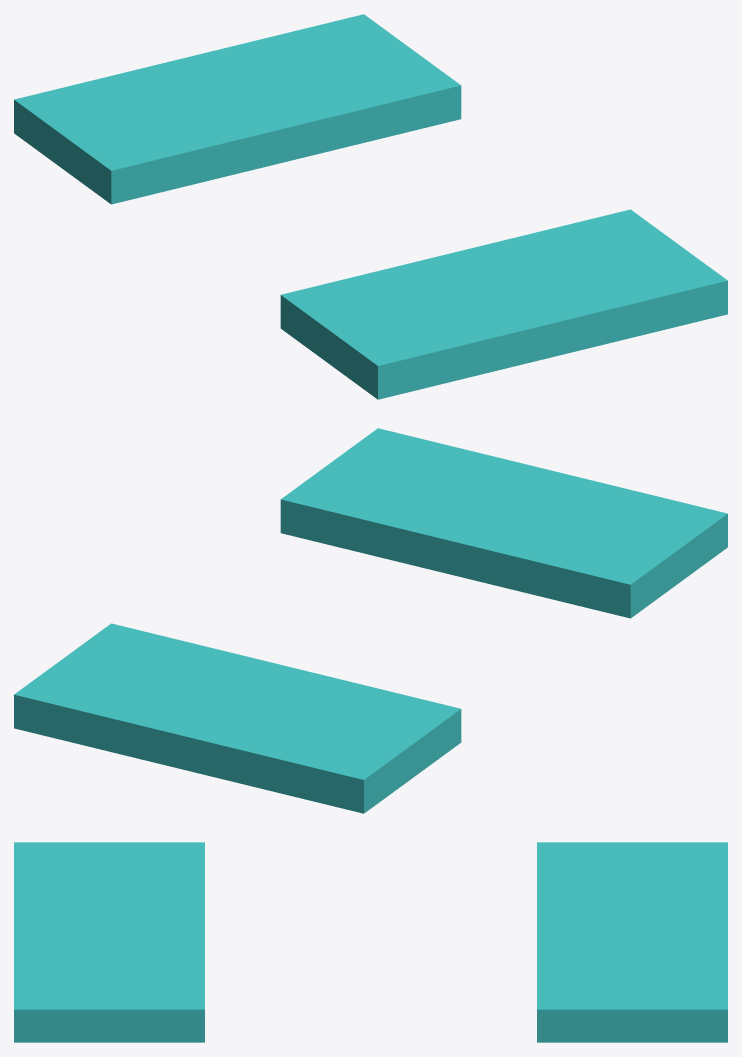
The model's file is Water.fbx.
The picture shows the model from 3 angles, top to bottom: view 1: azimuth 30°, elevation 25°; view 2: azimuth 150°, elevation 25°; view 3: azimuth 270°, elevation 25°; orthographic projection.
Parts seen in each view (by area): view 1: Tile_Center, pasted__Tile_Center; view 2: Tile_Center, pasted__Tile_Center; view 3: Tile_Center, pasted__Tile_Center.
Boxes of the visible parts, <box> form: Tile_Center: <box>14,14,461,204</box>; pasted__Tile_Center: <box>280,209,727,399</box>; Tile_Center: <box>14,623,461,813</box>; pasted__Tile_Center: <box>280,428,727,618</box>; Tile_Center: <box>537,842,727,1042</box>; pasted__Tile_Center: <box>14,842,204,1042</box>.
Bounding box in the file's own units: 65.12 × 6 × 117.
